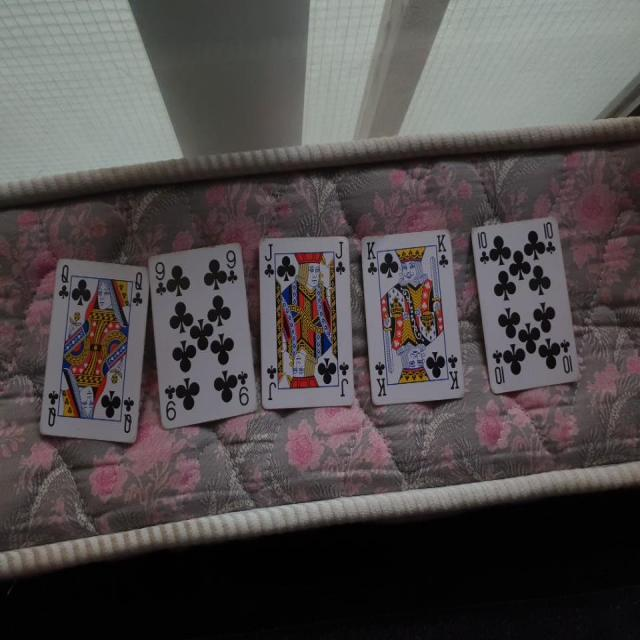10 Trefoils: (468, 215, 585, 397)
9 Trefoils: (147, 241, 259, 433)
J Trefoils: (257, 230, 354, 409)
K Trefoils: (361, 226, 467, 408)
Q Trefoils: (39, 256, 151, 445)
